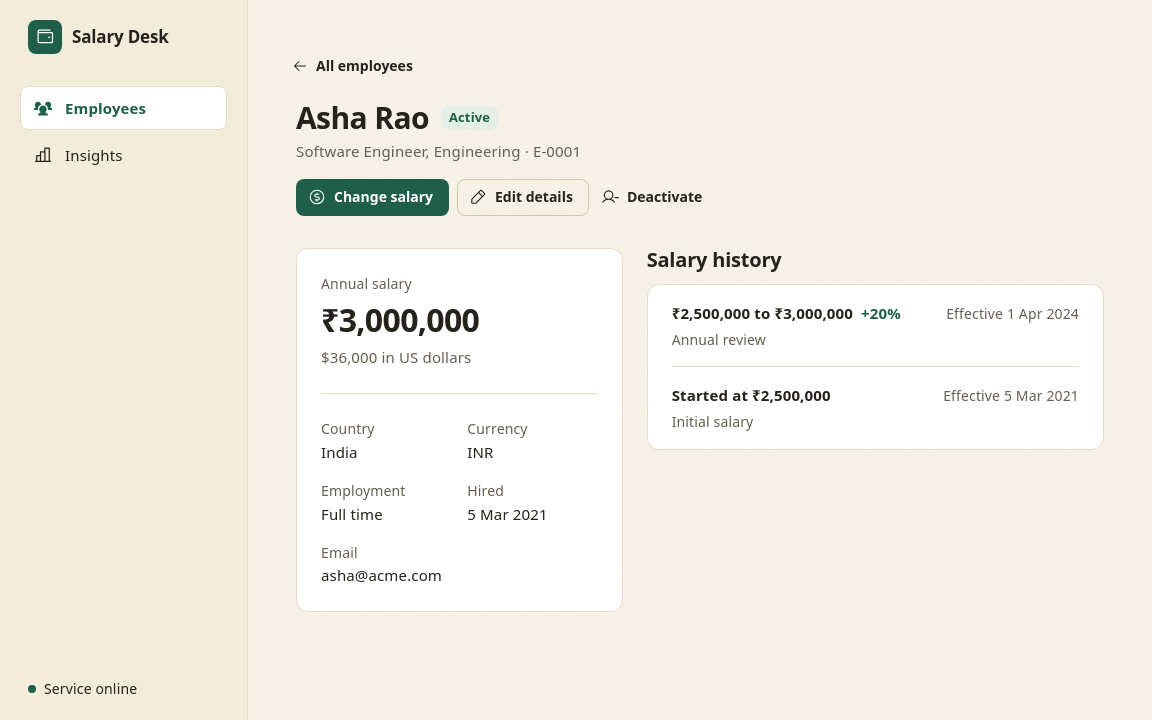
Test: Change salary dialog › posts the change, confirms it and refreshes the employee
Click the button "Change salary" at (372, 197), box [296, 179, 449, 216]
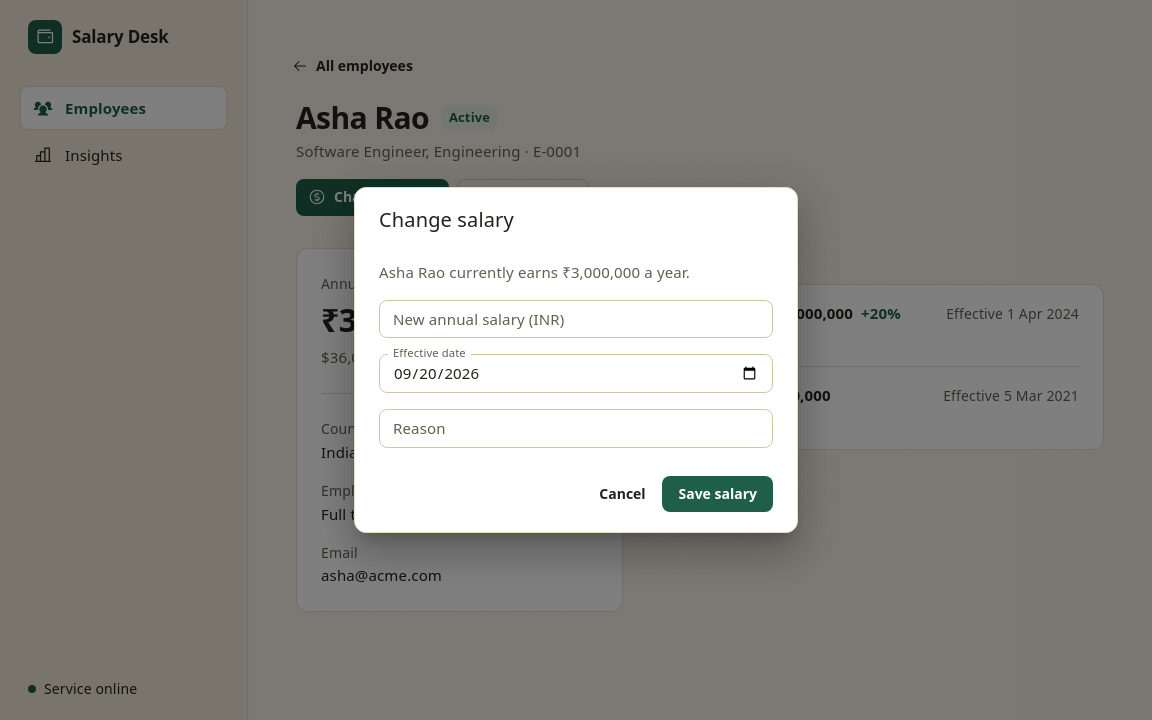
Type "3,300,000" into the field labelled "New annual salary (INR)" at (576, 319), box [379, 300, 773, 338]
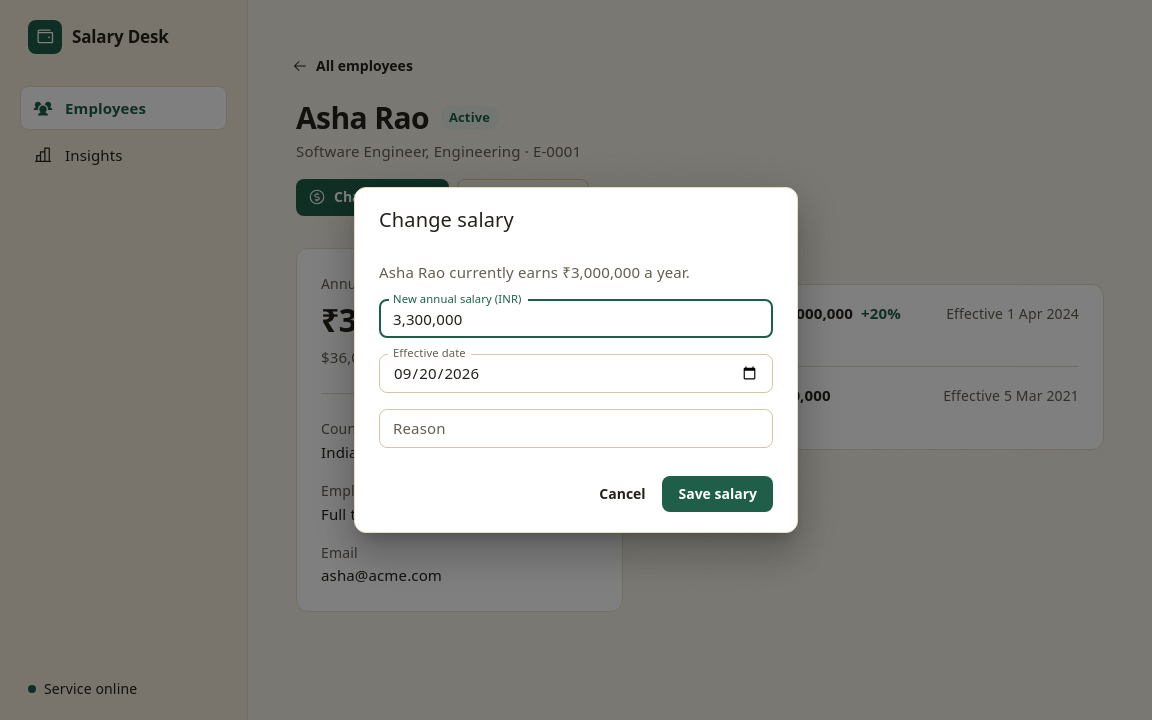
Type "Promotion" into the field labelled "Reason" at (576, 428), box [379, 409, 773, 448]
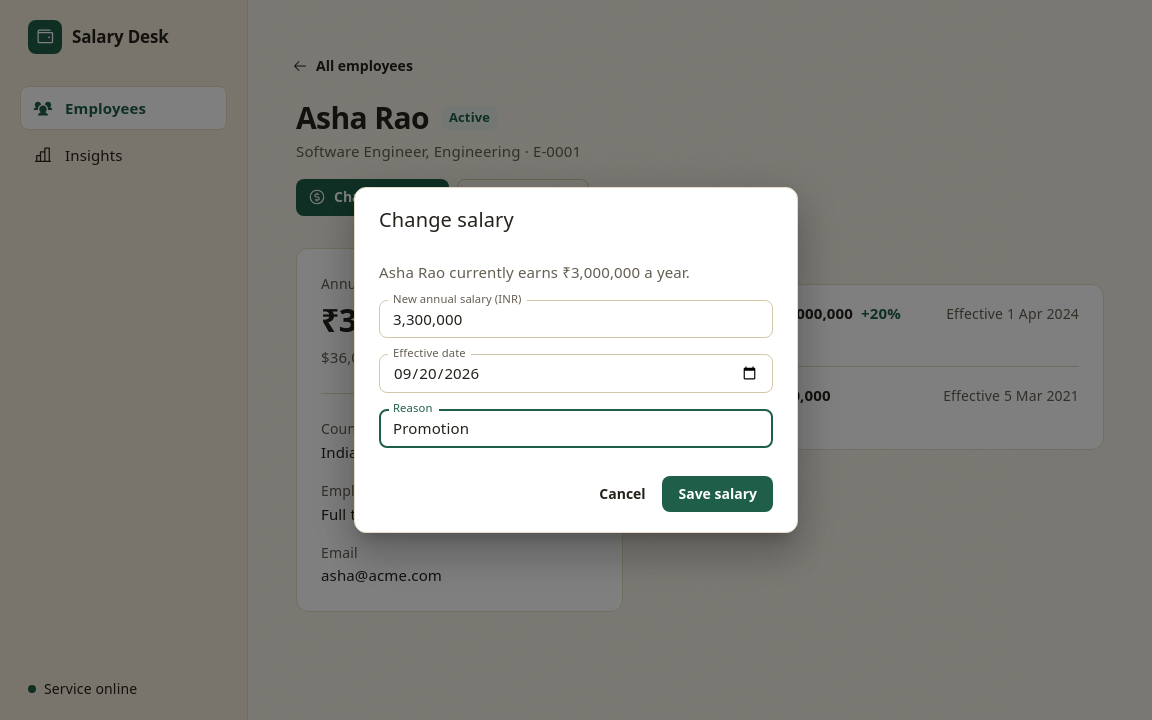
Click the button "Save salary" at (718, 494), box [662, 476, 773, 512]
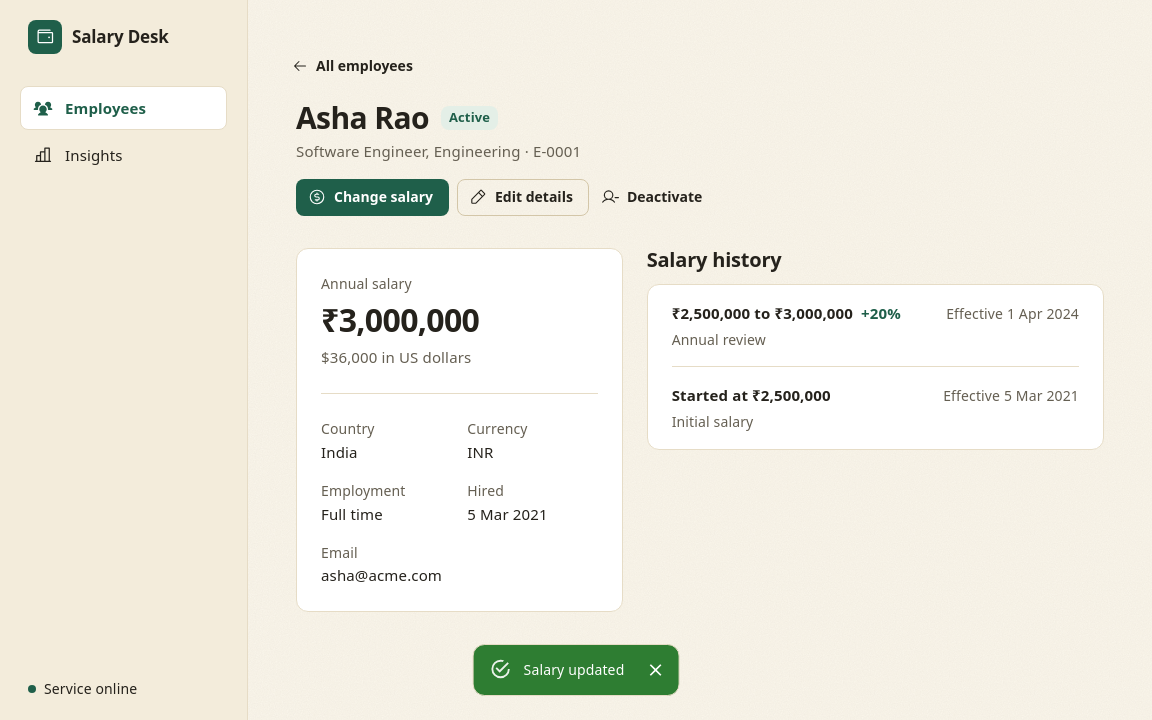
Check: the text "Salary updated" is shown, box [524, 660, 624, 679]
